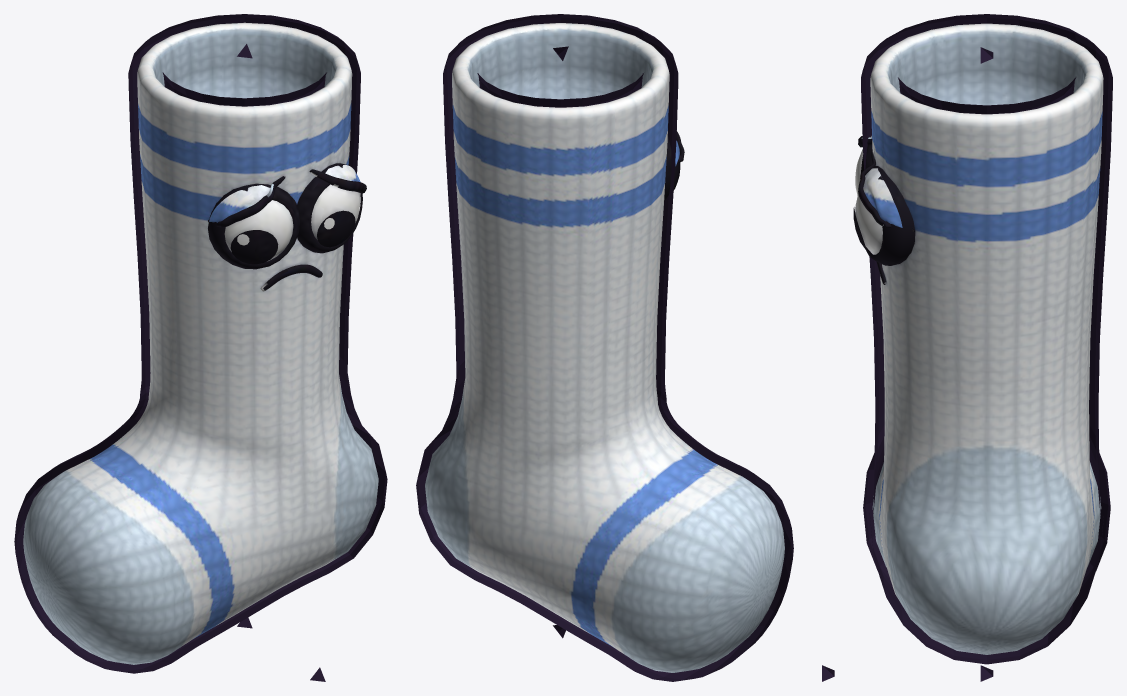
The model's file is Tubolino_L.glb.
3 renders of one model, left to right at view 1: azimuth 30°, elevation 25°; view 2: azimuth 150°, elevation 25°; view 3: azimuth 270°, elevation 25°, orthographic. The views are drawn at different scales.
Parts seen in each view (by area): view 1: Tubolino_L, Tubolino_L_Outline; view 2: Tubolino_L, Tubolino_L_Outline; view 3: Tubolino_L, Tubolino_L_Outline.
Part boxes in pixels (x1,y1,x2,y2): Tubolino_L: (23,22,378,664); Tubolino_L_Outline: (14,14,387,673); Tubolino_L: (425,23,784,672); Tubolino_L_Outline: (416,14,793,681); Tubolino_L: (853,23,1103,654); Tubolino_L_Outline: (861,14,1112,664).
Bounding box in the file's own units: 2.68 × 4.4 × 1.83.
2 materials, 2 textured.
